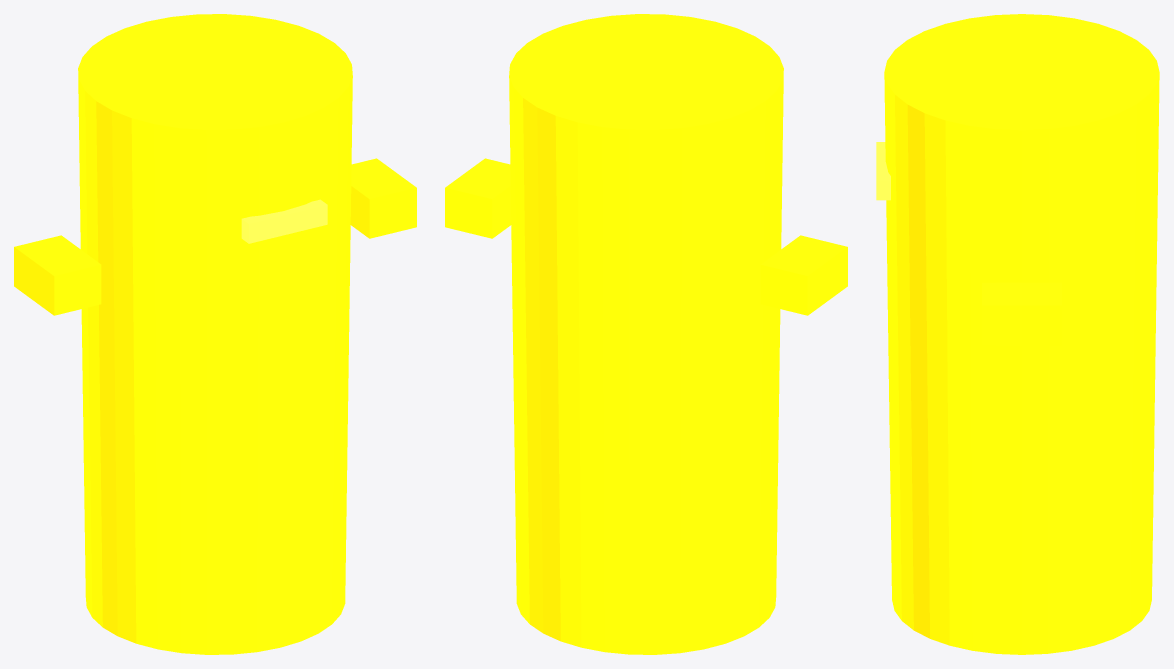
Rendered from SM_Enemy_Tank.glb.
3 renders of one model, left to right at view 1: azimuth 30°, elevation 25°; view 2: azimuth 150°, elevation 25°; view 3: azimuth 270°, elevation 25°, orthographic.
Parts seen in each view (by area): view 1: SM_Enemy_Tank; view 2: SM_Enemy_Tank; view 3: SM_Enemy_Tank.
Part boxes in pixels (x1,y1,x2,y2): SM_Enemy_Tank: (14, 14, 416, 654); SM_Enemy_Tank: (445, 14, 847, 654); SM_Enemy_Tank: (876, 14, 1159, 654).
Bounding box in the file's own units: 1.15 × 1.6 × 0.778.
